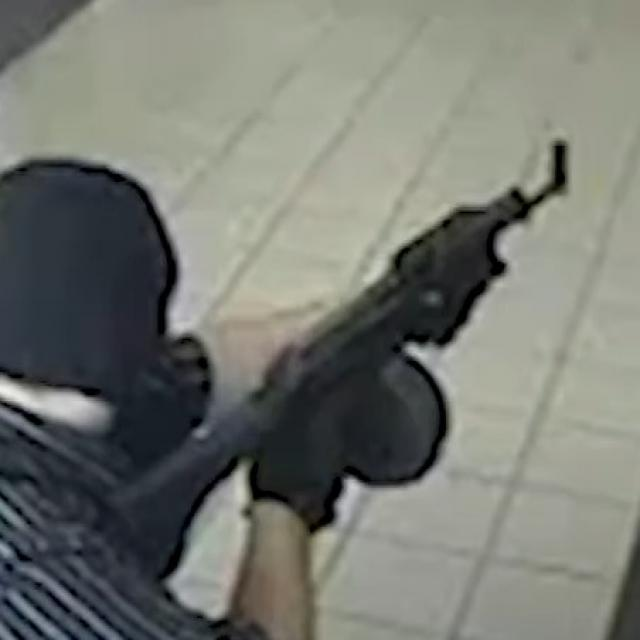weapon: (98, 118, 580, 583)
